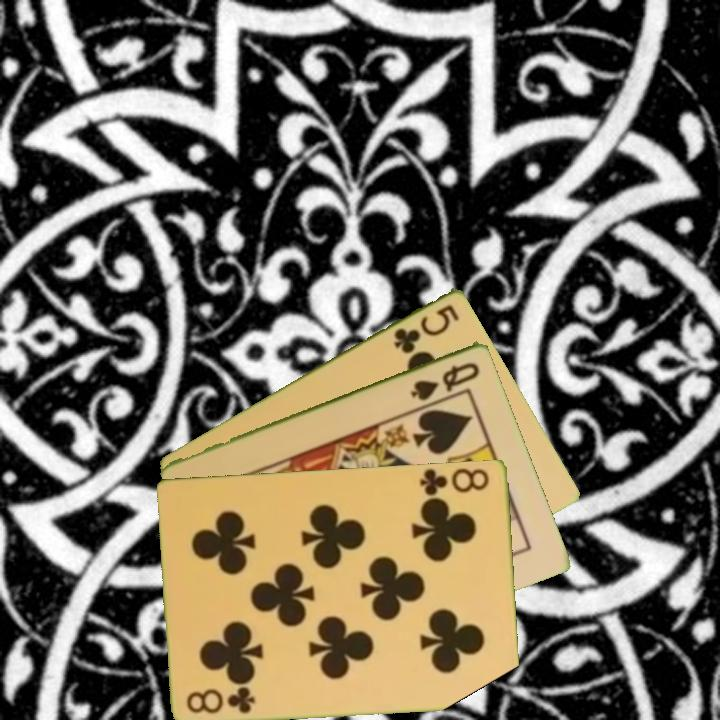5c: (390, 300, 463, 356)
8c: (417, 464, 492, 501), (183, 683, 259, 716)
Qs: (407, 358, 483, 403)
